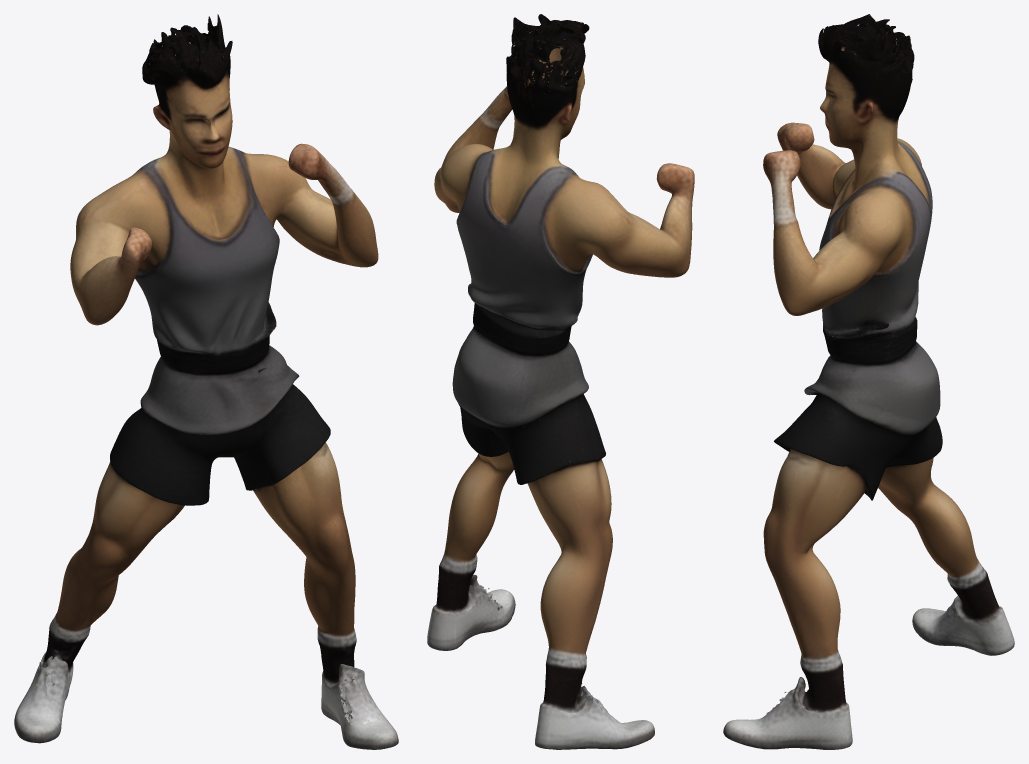
Rendered from trellis2-concept2-high.detail.glb.
The picture shows the model from 3 angles, left to right: view 1: azimuth 30°, elevation 25°; view 2: azimuth 150°, elevation 25°; view 3: azimuth 270°, elevation 25°; orthographic projection. The views are drawn at different scales.
Visible parts, largest first — view 1: world; view 2: world; view 3: world.
Boxes of the visible parts, x1=… form: world: x1=14, y1=14, x2=398, y2=749; world: x1=427, y1=14, x2=694, y2=749; world: x1=723, y1=14, x2=1014, y2=749.
Size of the model in its own units: 0.4224 by 0.999 by 0.3933.
1 material, 1 textured.
